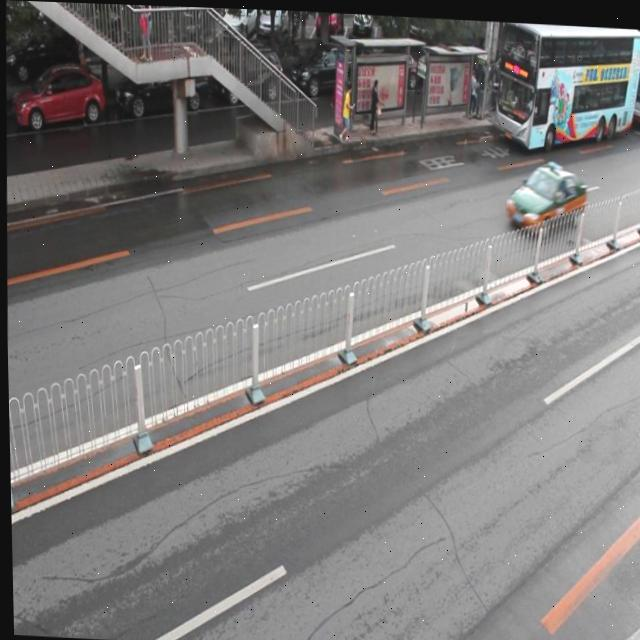car: (15, 63, 106, 135), (503, 154, 585, 231), (116, 49, 207, 118), (218, 40, 284, 108), (290, 39, 361, 97)
van: (491, 17, 640, 153)
